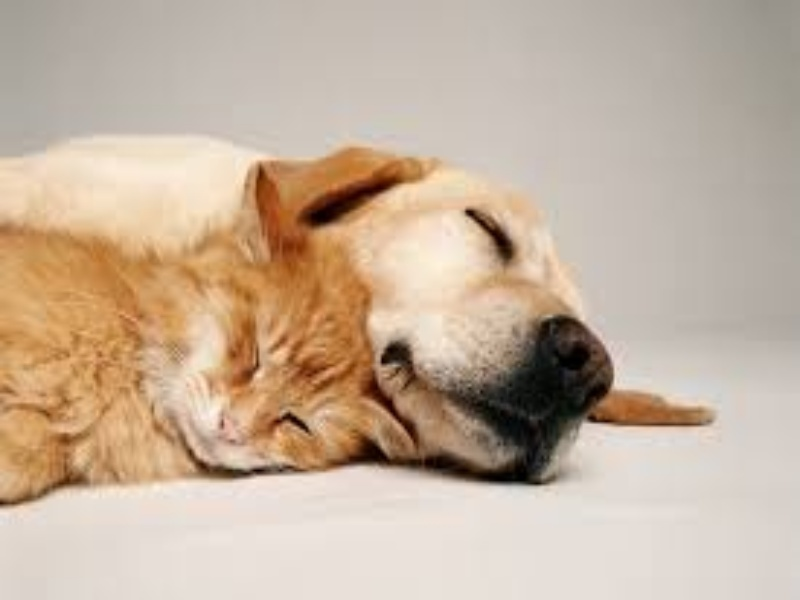dog: (3, 126, 723, 506)
